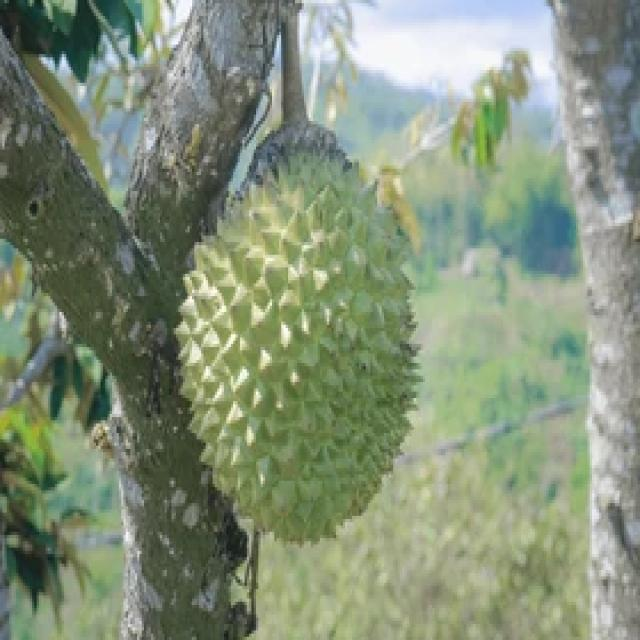immature: (180, 134, 424, 546)
